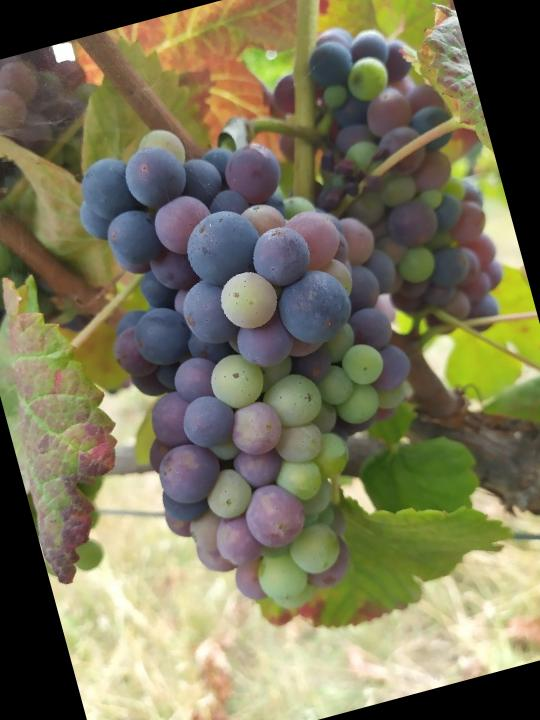grape: (59, 78, 469, 640)
